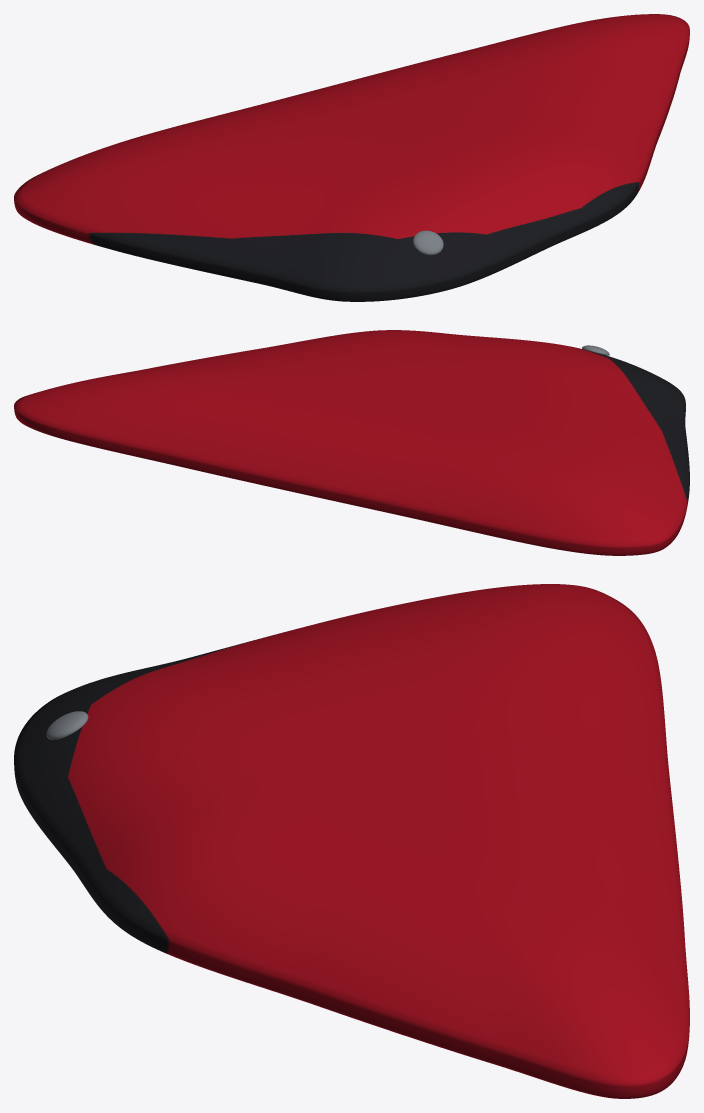
The model's file is child-candidate.glb.
3 views of the same model, one above another, from view 1: azimuth 30°, elevation 25°; view 2: azimuth 150°, elevation 25°; view 3: azimuth 270°, elevation 25° (orthographic). The views are drawn at different scales.
Parts seen in each view (by area): view 1: RIGHT_COVER_OUTER_SKIN, RIGHT_COVER_LOWER_ROUND_VISIBLE_HEAD_NO_DRIVE_CLAIM; view 2: RIGHT_COVER_OUTER_SKIN; view 3: RIGHT_COVER_OUTER_SKIN, RIGHT_COVER_LOWER_ROUND_VISIBLE_HEAD_NO_DRIVE_CLAIM.
Boxes of the visible parts, <box> form: RIGHT_COVER_OUTER_SKIN: <box>14,14,689,301</box>; RIGHT_COVER_LOWER_ROUND_VISIBLE_HEAD_NO_DRIVE_CLAIM: <box>413,230,443,255</box>; RIGHT_COVER_OUTER_SKIN: <box>14,330,689,555</box>; RIGHT_COVER_OUTER_SKIN: <box>14,584,689,1098</box>; RIGHT_COVER_LOWER_ROUND_VISIBLE_HEAD_NO_DRIVE_CLAIM: <box>46,711,88,739</box>.
Size of the model in its own units: 0.3739 by 0.0295 by 0.2139.
Materials: 2 (1 with a texture image).
